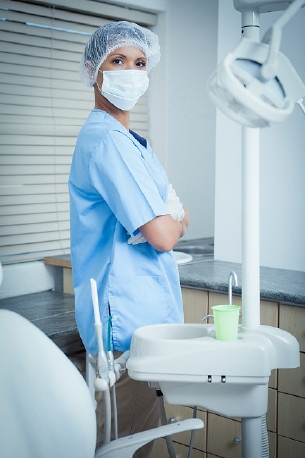Mask: (98, 46, 157, 106)
